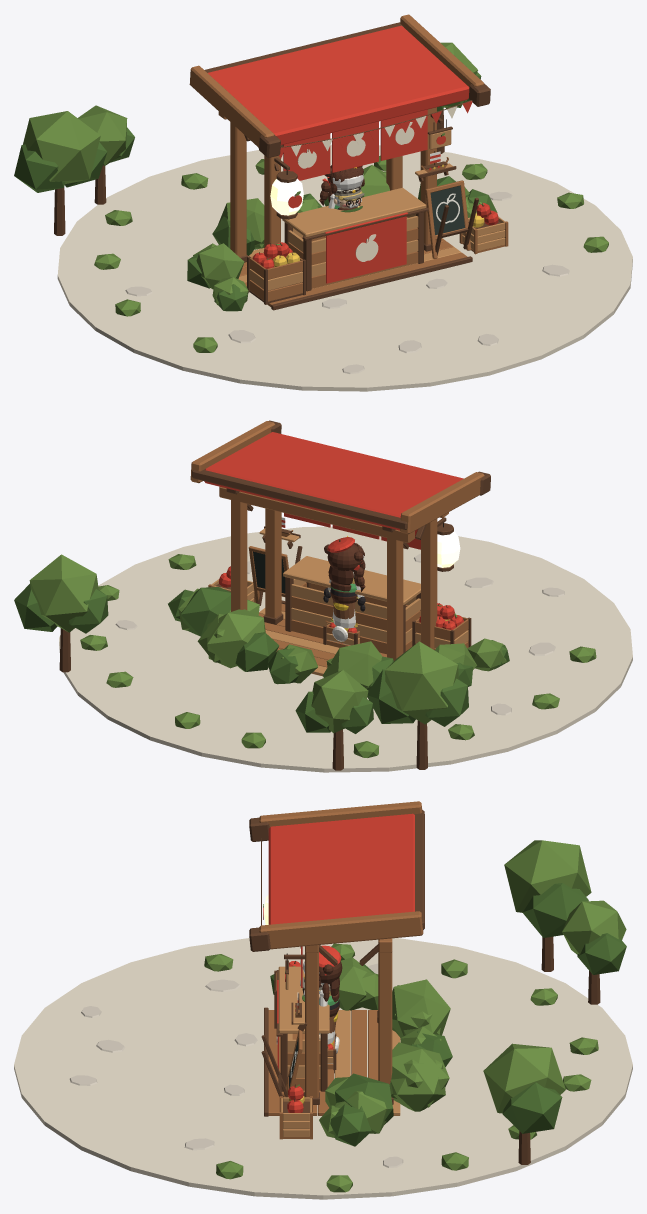
File: aomori.glb
3 views of the same model, one above another, from view 1: azimuth 30°, elevation 25°; view 2: azimuth 150°, elevation 25°; view 3: azimuth 270°, elevation 25° (orthographic). The views are drawn at different scales.
Parts seen in each view (by area): view 1: Ground, Stall_Roof, Greenery, Stall_Frame, Counter_Cloth, Crate, Chalkboard, Noren_R, Noren_C, Noren_L, Upgrade_Crate2, Lantern (+2 smaller); view 2: Ground, Greenery, Stall_Frame, Stall_Roof, Crate, Chalkboard, Lantern, Chef_Hair_F1, Crate_Delivery, Chef_Hair_F2; view 3: Ground, Greenery, Stall_Roof, Stall_Frame, Upgrade_Crate2, Chalkboard.
Boxes of the visible parts, bbox=[...] form: Ground: bbox=[57, 144, 632, 391]; Stall_Roof: bbox=[189, 14, 490, 157]; Greenery: bbox=[14, 42, 497, 311]; Stall_Frame: bbox=[218, 107, 472, 310]; Counter_Cloth: bbox=[325, 212, 407, 283]; Crate: bbox=[247, 242, 305, 304]; Chalkboard: bbox=[425, 180, 478, 258]; Noren_R: bbox=[380, 109, 427, 160]; Noren_C: bbox=[332, 121, 378, 172]; Noren_L: bbox=[283, 133, 330, 180]; Upgrade_Crate2: bbox=[459, 202, 508, 254]; Lantern: bbox=[270, 170, 303, 219]; Ground: bbox=[59, 526, 632, 772]; Greenery: bbox=[14, 554, 509, 770]; Stall_Frame: bbox=[219, 487, 448, 676]; Stall_Roof: bbox=[190, 420, 490, 534]; Crate: bbox=[412, 603, 471, 649]; Chalkboard: bbox=[248, 546, 302, 605]; Lantern: bbox=[437, 523, 460, 571]; Chef_Hair_F1: bbox=[327, 543, 365, 591]; Crate_Delivery: bbox=[323, 620, 360, 647]; Chef_Hair_F2: bbox=[328, 566, 358, 591]; Ground: bbox=[14, 938, 632, 1199]; Greenery: bbox=[270, 840, 626, 1164]; Stall_Roof: bbox=[249, 801, 424, 951]; Stall_Frame: bbox=[264, 938, 400, 1116]; Upgrade_Crate2: bbox=[279, 1084, 312, 1139]; Chalkboard: bbox=[261, 1029, 302, 1097].
Size of the model in its own units: 8 by 3.05 by 8.
